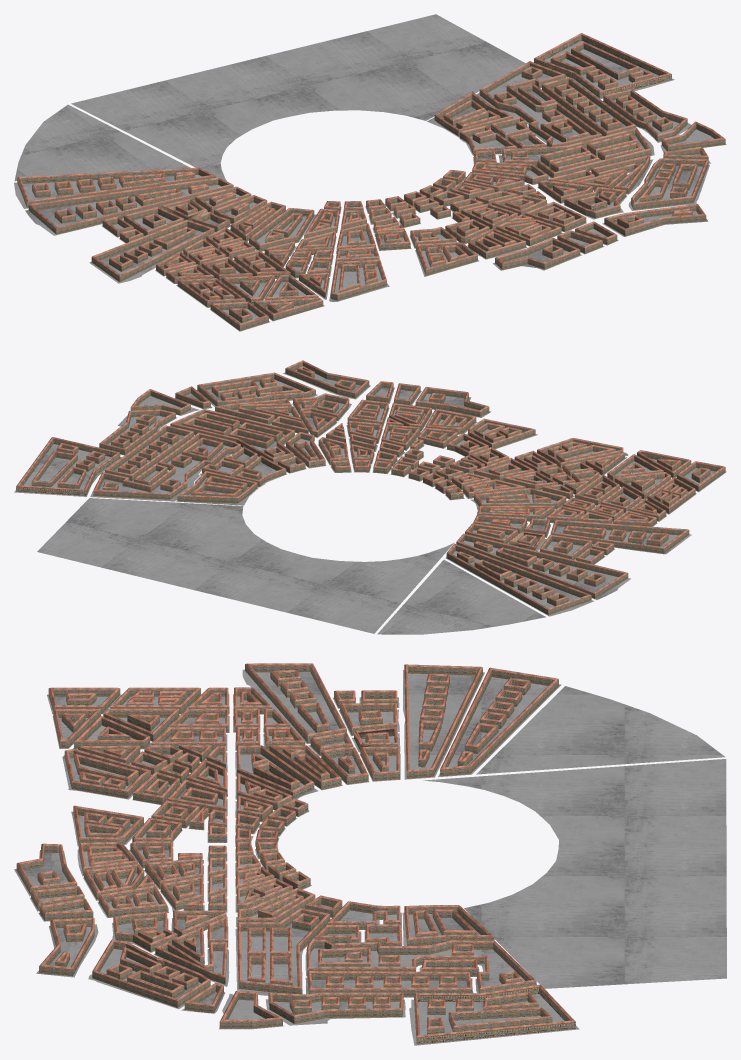
The model's file is apartments.glb.
3 renders of one model, top to bottom at view 1: azimuth 30°, elevation 25°; view 2: azimuth 150°, elevation 25°; view 3: azimuth 270°, elevation 25°, orthographic. The views are drawn at different scales.
Parts seen in each view (by area): view 1: ground_apartments_81, ground_apartments_82, building_apartments_49_003, building_apartments_93_003, building_apartments_76_001, building_apartments_68_001_002, building_apartments_48_003, building_apartments_53_003, building_apartments_83_003, building_apartments_78_003_007, building_apartments_92_001_002, building_apartments_101_003 (+46 smaller); view 2: ground_apartments_81, ground_apartments_82, building_apartments_76_001, building_apartments_48_003, building_apartments_49_003, building_apartments_68_001_002, building_apartments_93_003, building_apartments_53_003, building_apartments_83_003, building_apartments_78_003_007, building_apartments_79_003, building_apartments_92_001_002 (+41 smaller); view 3: ground_apartments_81, ground_apartments_82, building_apartments_93_003, building_apartments_76_001, building_apartments_48_003, building_apartments_83_003, building_apartments_49_003, building_apartments_68_001_002, building_apartments_53_003, building_apartments_78_003_007, building_apartments_92_001_002, ground_apartments_49 (+60 smaller).
Part boxes in pixels (x1=…): ground_apartments_81: x1=71, y1=14, x2=525, y2=181; ground_apartments_82: x1=14, y1=104, x2=190, y2=180; building_apartments_49_003: x1=28, y1=177, x2=233, y2=234; building_apartments_93_003: x1=534, y1=33, x2=671, y2=98; building_apartments_76_001: x1=479, y1=61, x2=601, y2=146; building_apartments_68_001_002: x1=502, y1=128, x2=651, y2=177; building_apartments_48_003: x1=17, y1=167, x2=216, y2=207; building_apartments_53_003: x1=91, y1=219, x2=214, y2=282; building_apartments_83_003: x1=631, y1=158, x2=708, y2=209; building_apartments_78_003_007: x1=542, y1=77, x2=636, y2=136; building_apartments_92_001_002: x1=603, y1=89, x2=687, y2=141; building_apartments_101_003: x1=604, y1=203, x2=706, y2=236; ground_apartments_81: x1=37, y1=498, x2=454, y2=633; ground_apartments_82: x1=377, y1=559, x2=545, y2=634; building_apartments_76_001: x1=93, y1=432, x2=240, y2=499; building_apartments_48_003: x1=446, y1=543, x2=591, y2=615; building_apartments_49_003: x1=456, y1=533, x2=628, y2=598; building_apartments_68_001_002: x1=170, y1=409, x2=294, y2=463; building_apartments_93_003: x1=16, y1=437, x2=120, y2=495; building_apartments_53_003: x1=550, y1=519, x2=689, y2=553; building_apartments_83_003: x1=197, y1=372, x2=315, y2=406; building_apartments_78_003_007: x1=104, y1=425, x2=193, y2=480; building_apartments_79_003: x1=177, y1=470, x2=257, y2=503; building_apartments_92_001_002: x1=99, y1=409, x2=175, y2=454; ground_apartments_81: x1=423, y1=759, x2=726, y2=988; ground_apartments_82: x1=476, y1=686, x2=725, y2=774; building_apartments_93_003: x1=414, y1=984, x2=575, y2=1044; building_apartments_76_001: x1=306, y1=939, x2=536, y2=993; building_apartments_48_003: x1=440, y1=667, x2=558, y2=776; building_apartments_83_003: x1=92, y1=939, x2=210, y2=1007; building_apartments_49_003: x1=404, y1=664, x2=482, y2=778; building_apartments_68_001_002: x1=237, y1=908, x2=330, y2=994; building_apartments_53_003: x1=245, y1=663, x2=346, y2=742; building_apartments_78_003_007: x1=307, y1=971, x2=472, y2=996; building_apartments_92_001_002: x1=268, y1=992, x2=403, y2=1023; ground_apartments_49: x1=403, y1=670, x2=484, y2=779.
Size of the model in its own units: 11.64 by 0.1175 by 9.31.
Materials: 6 (6 with a texture image).
